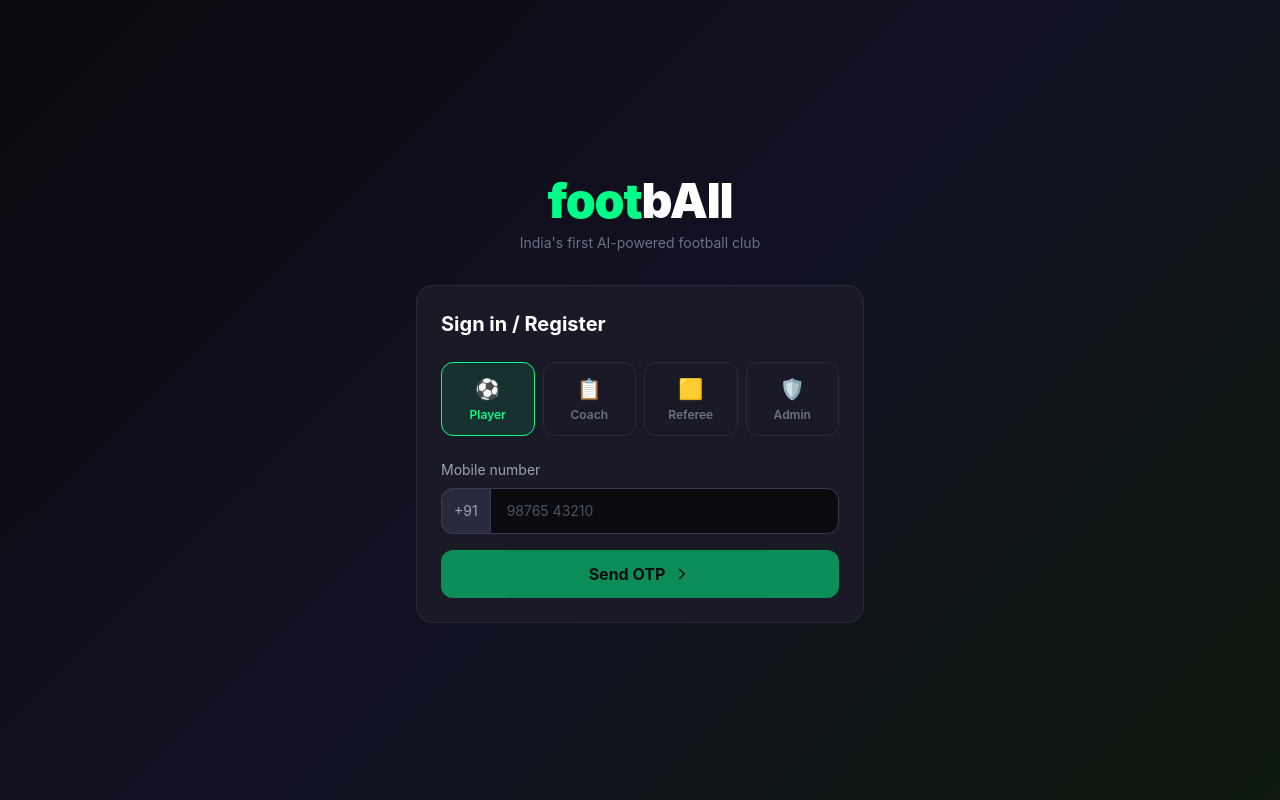
Test: Login page › selects coach role on click
The width and height of the screenshot is (1280, 800).
Click the button "📋 Coach": x=589, y=399 [542,362,636,436]
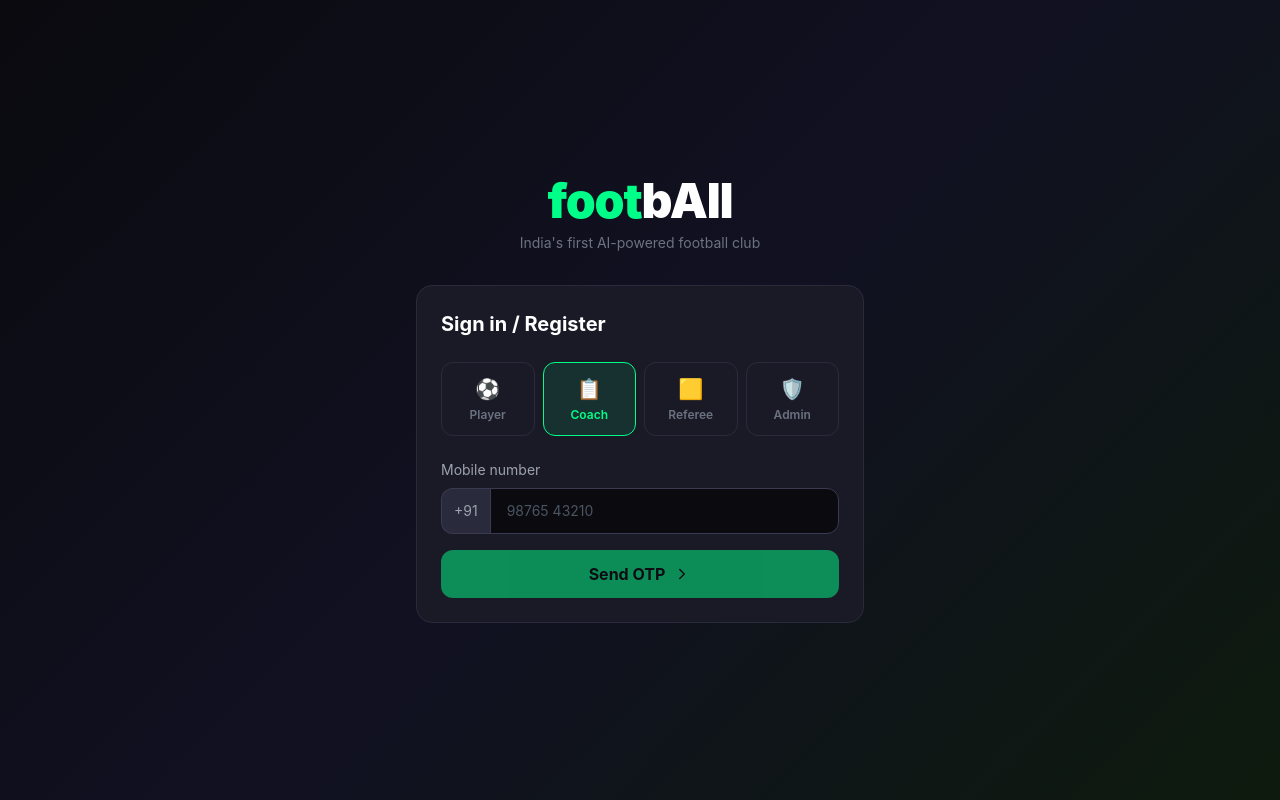
expect the button "📋 Coach" has class "text-[#00ff88]": met, box [542,362,636,436]
